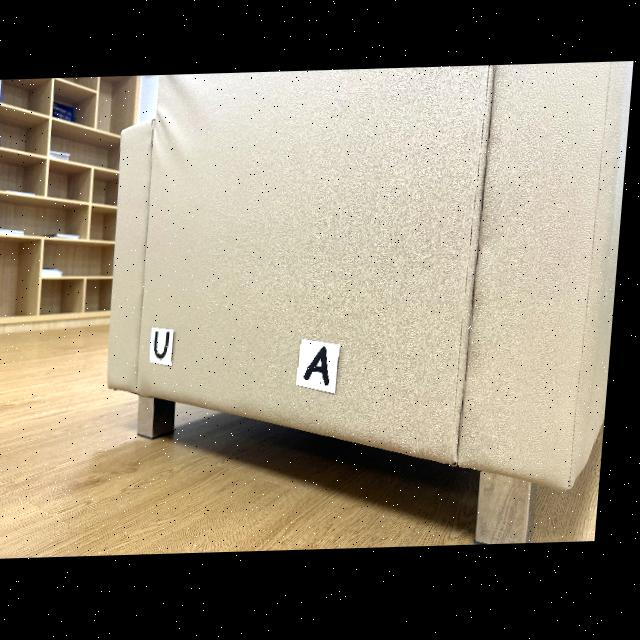A: (310, 349, 336, 387)
U: (160, 333, 176, 361)
